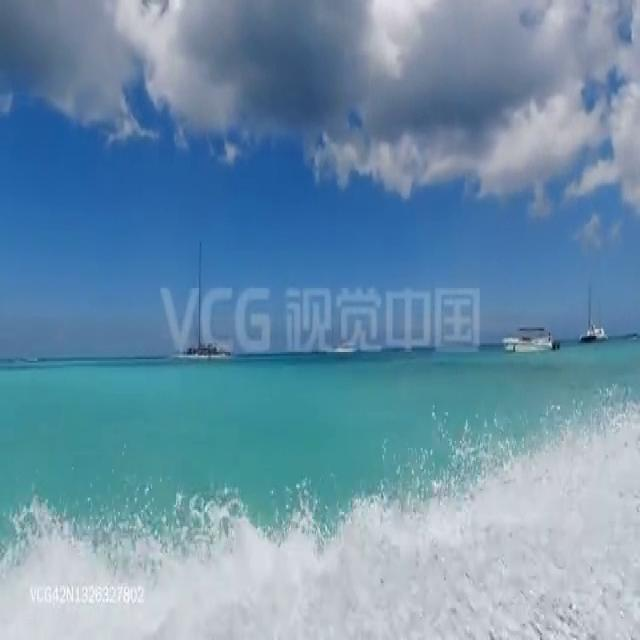houseboat: (498, 323, 561, 354)
sailboat: (174, 238, 232, 358), (578, 275, 607, 344)
